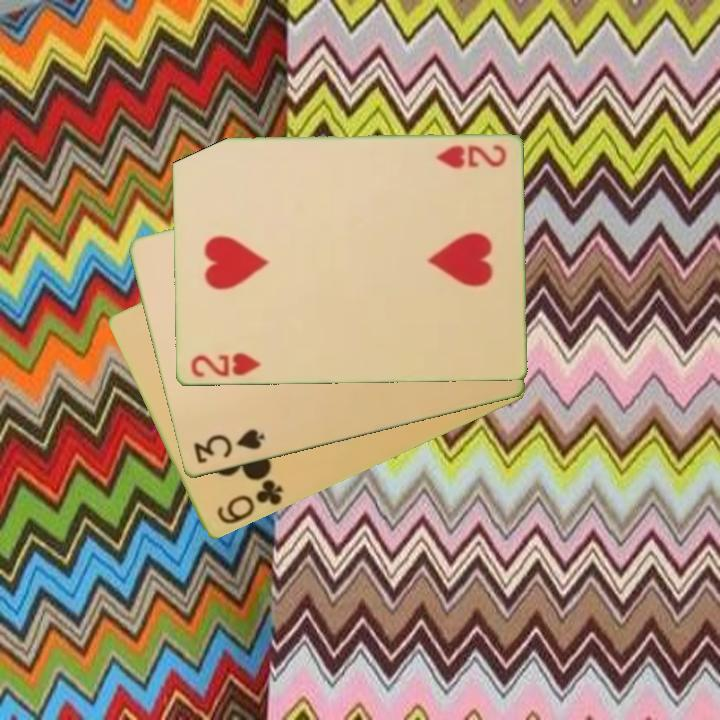2h: (187, 350, 264, 380), (432, 142, 509, 172)
3s: (189, 425, 268, 467)
6c: (213, 476, 286, 528)
